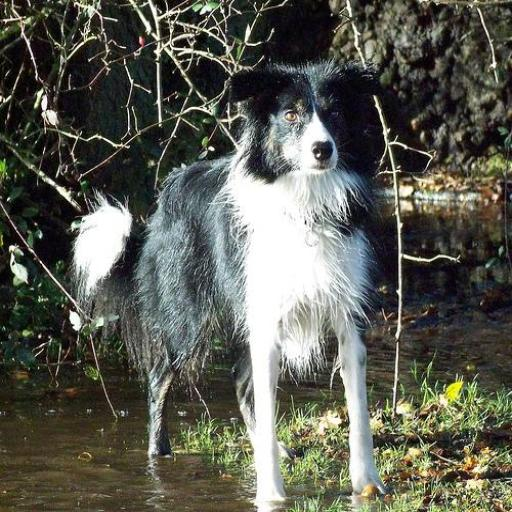dog_face: (227, 60, 384, 176)
